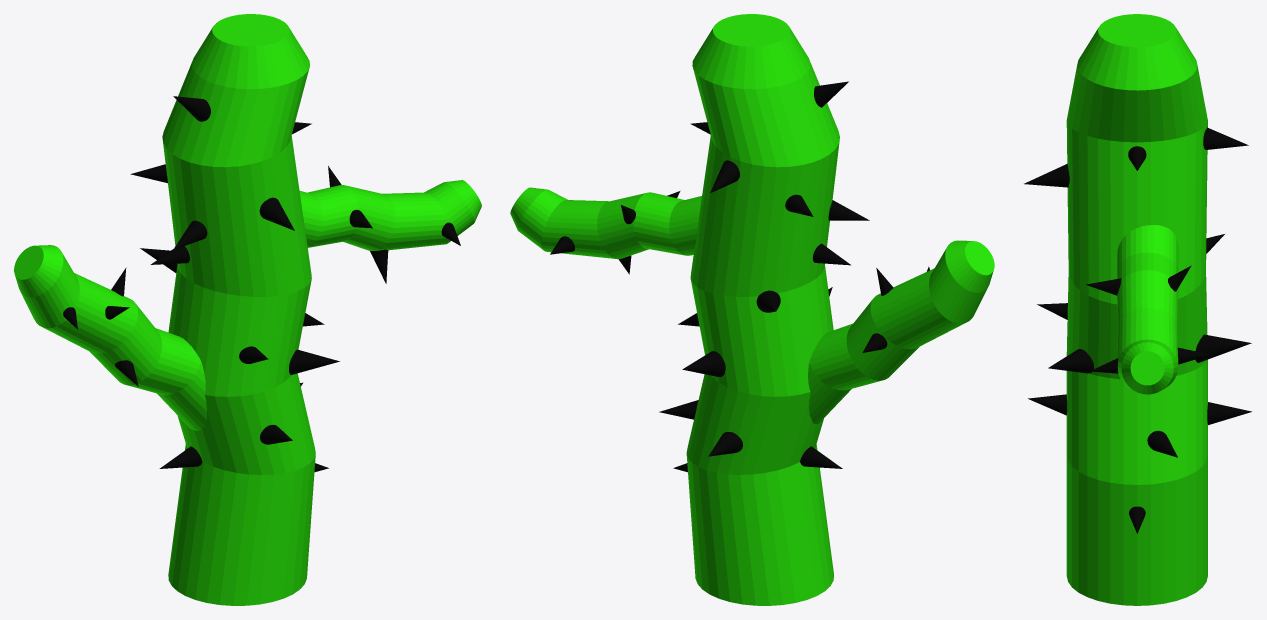
File: Cactus4.glb
The picture shows the model from 3 angles, left to right: view 1: azimuth 30°, elevation 25°; view 2: azimuth 150°, elevation 25°; view 3: azimuth 270°, elevation 25°; orthographic projection.
Visible parts, largest first — view 1: Cylinder.002, Cone; view 2: Cylinder.002, Cone; view 3: Cylinder.002, Cone.
Boxes of the visible parts, box(x1,y1,x2,y2) form: Cylinder.002: box(14, 14, 481, 605); Cone: box(63, 96, 460, 472); Cylinder.002: box(510, 14, 994, 605); Cone: box(550, 81, 929, 472); Cylinder.002: box(1066, 14, 1207, 605); Cone: box(1024, 127, 1251, 533).
Bounding box in the file's own units: 7.79 × 8.63 × 3.25.
